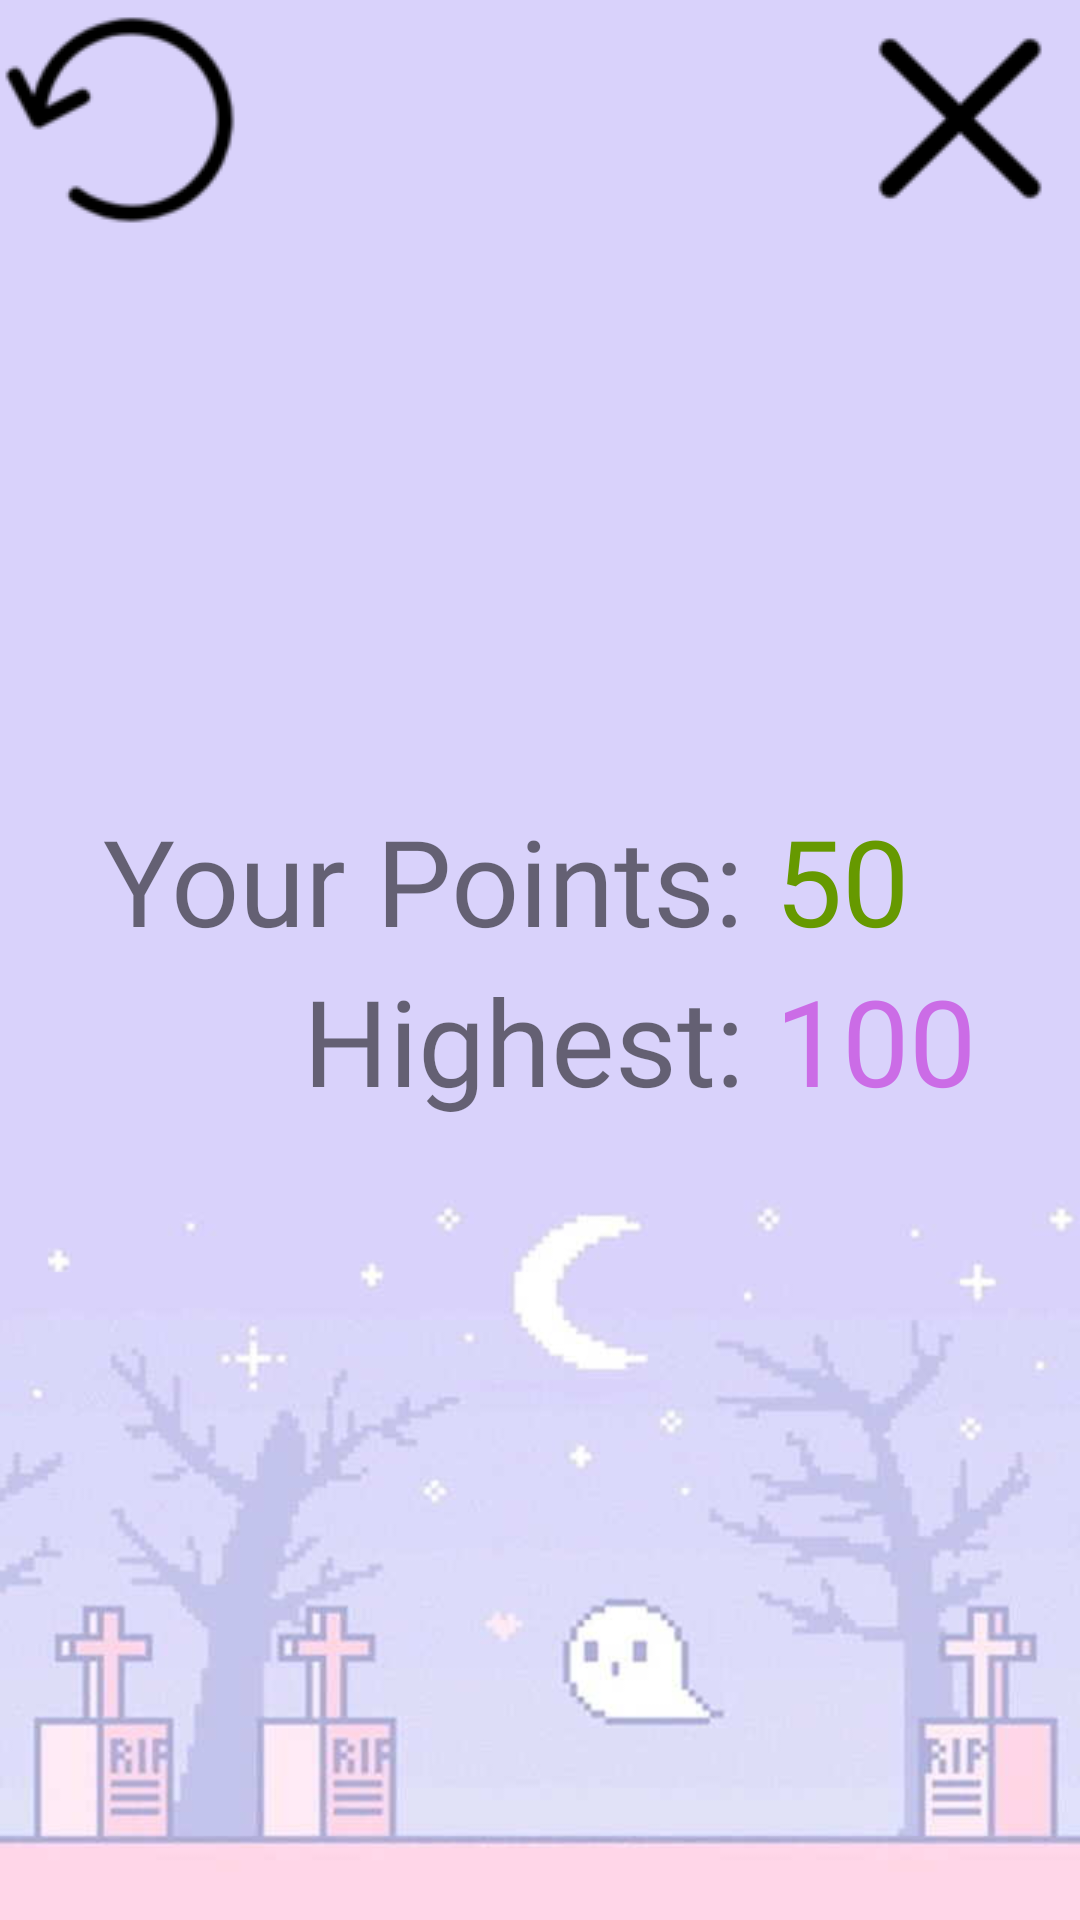

Icon click points for this 1080×1920 phone screenshot, format (x,y):
exit: (960,118)
restart: (120,120)
